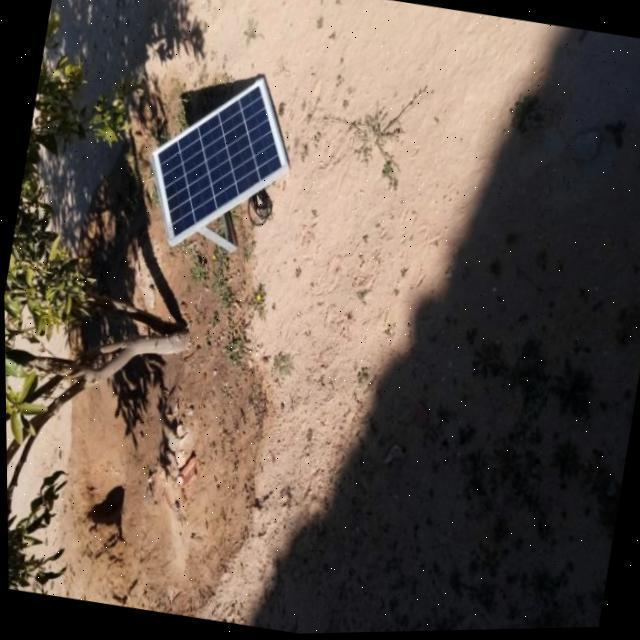Normal Solar Panel: (133, 59, 304, 262)
